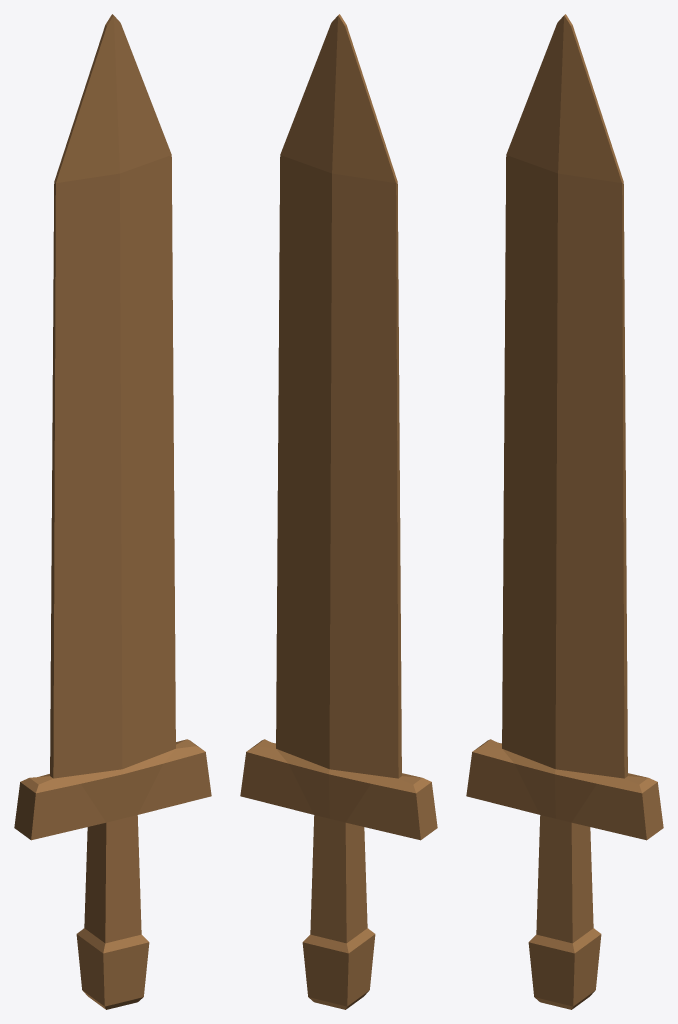
Rendered from sword.fbx.
The picture shows the model from 3 angles, left to right: view 1: azimuth 30°, elevation 25°; view 2: azimuth 150°, elevation 25°; view 3: azimuth 330°, elevation 25°; orthographic projection.
Visible parts, largest first — view 1: Cube; view 2: Cube; view 3: Cube.
Boxes of the visible parts, <box> form: Cube: <box>14,14,211,1009</box>; Cube: <box>240,14,437,1009</box>; Cube: <box>466,14,663,1009</box>.
Bounding box in the file's own units: 34.18 × 178 × 8.74.
